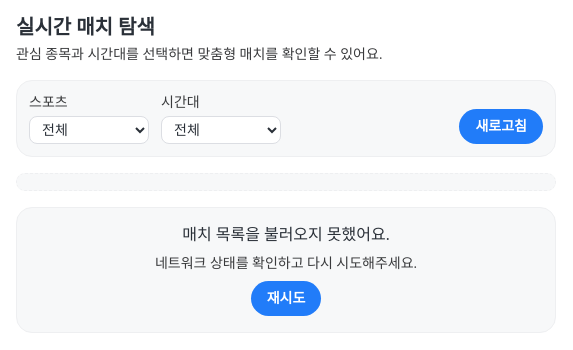
Test: useGameList × UI › 에러 상태 + 재시도
Expected: the element with test id "gamelist-error" is shown, [16,207,556,333]
Click the button with aria-label "retry-games": (286, 298) [251,281,321,316]
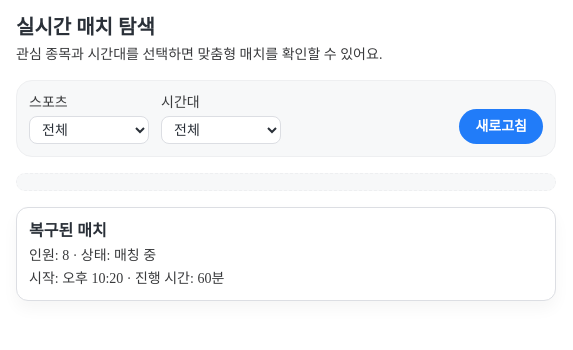
Expected: the text "복구된 매치" is shown, [29,222,107,239]
